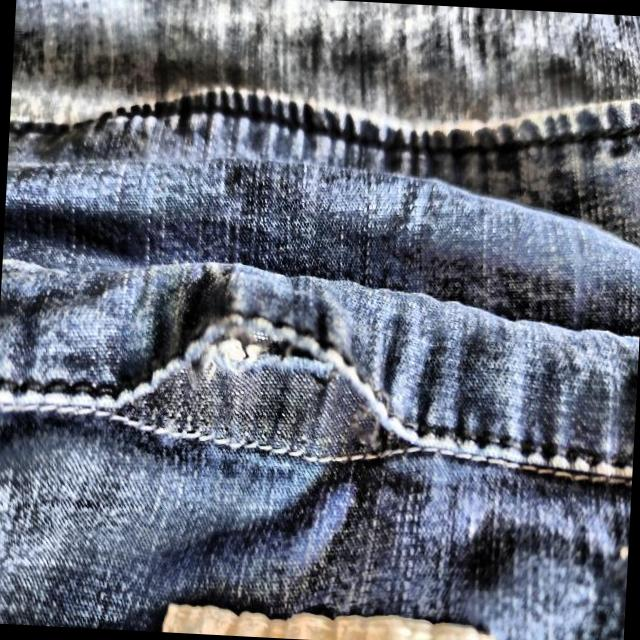gray stitch: (100, 312, 447, 489)
